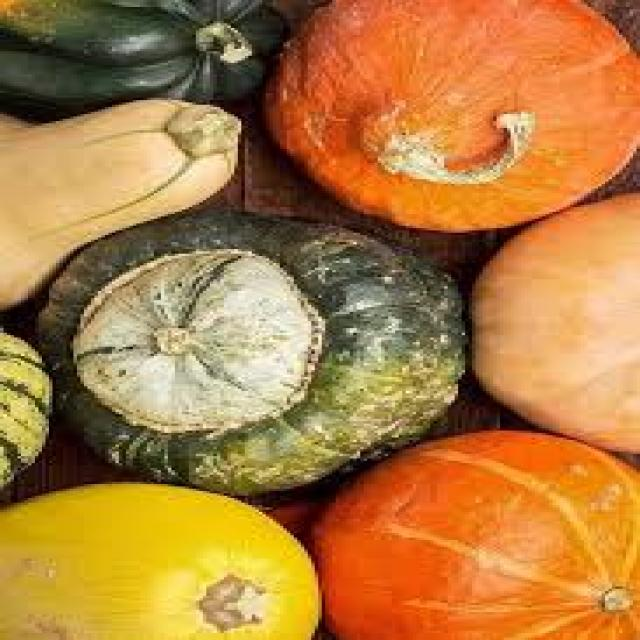organic waste: (35, 212, 462, 496), (252, 0, 636, 226), (304, 428, 636, 638), (0, 479, 315, 638), (0, 98, 241, 305), (462, 191, 636, 451), (0, 0, 280, 123), (0, 324, 42, 501)
